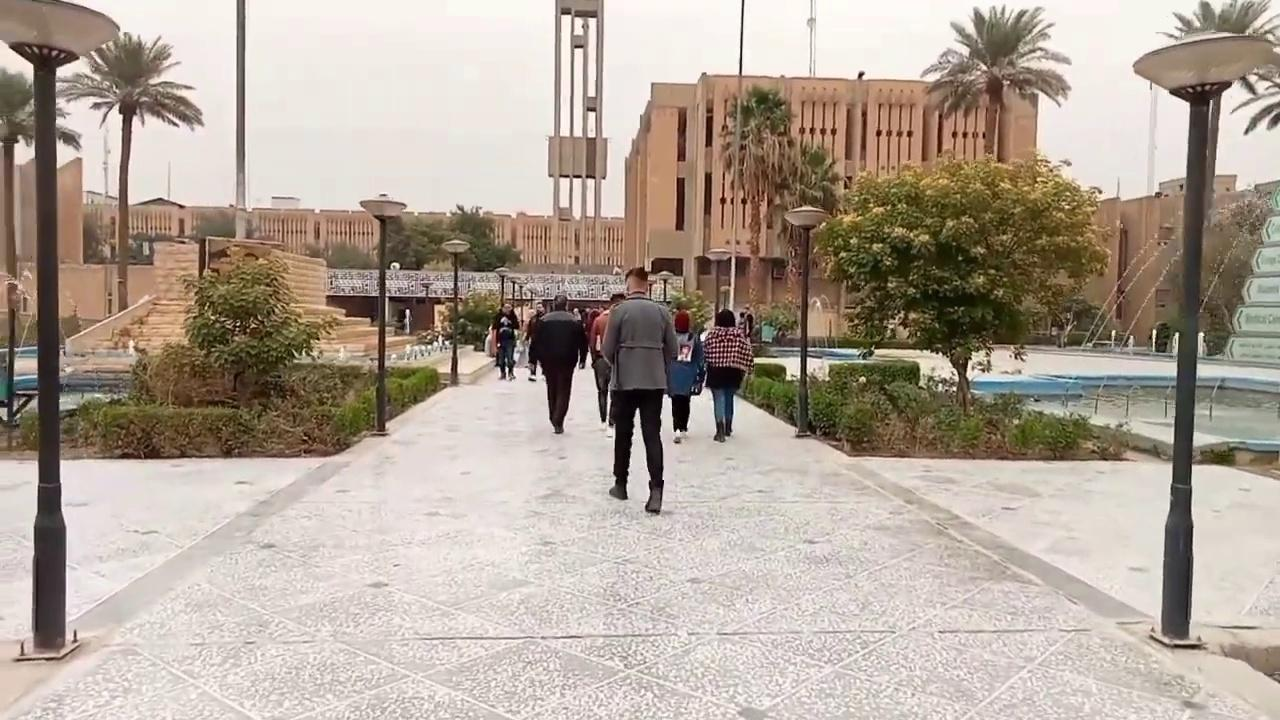fountain: (1010, 26, 1279, 473), (60, 291, 156, 357)
person: (599, 266, 679, 513), (530, 293, 587, 433), (701, 308, 754, 442), (666, 303, 706, 443), (589, 292, 625, 431)
tree: (1142, 0, 1279, 646), (811, 146, 1112, 414), (54, 30, 204, 312), (714, 82, 841, 334), (1155, 0, 1279, 197), (919, 3, 1072, 161), (172, 243, 330, 390), (0, 63, 81, 314), (381, 203, 522, 272), (0, 64, 82, 154), (439, 288, 498, 349), (666, 286, 712, 335)
